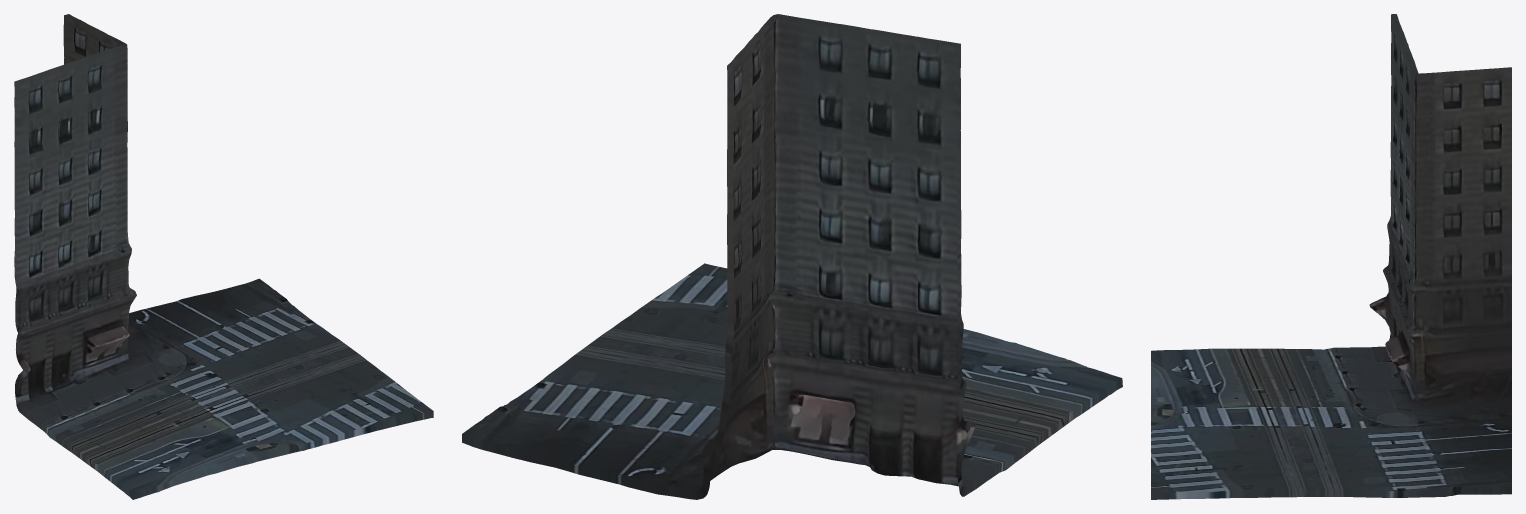
The model's file is z20-167747-405247-h0-yup-uvflip-v3-world.glb.
3 renders of one model, left to right at view 1: azimuth 30°, elevation 25°; view 2: azimuth 150°, elevation 25°; view 3: azimuth 270°, elevation 25°, orthographic. The views are drawn at different scales.
Bounding box in the file's own units: 30.2 × 31.8 × 30.32.
1 material, 1 textured.
